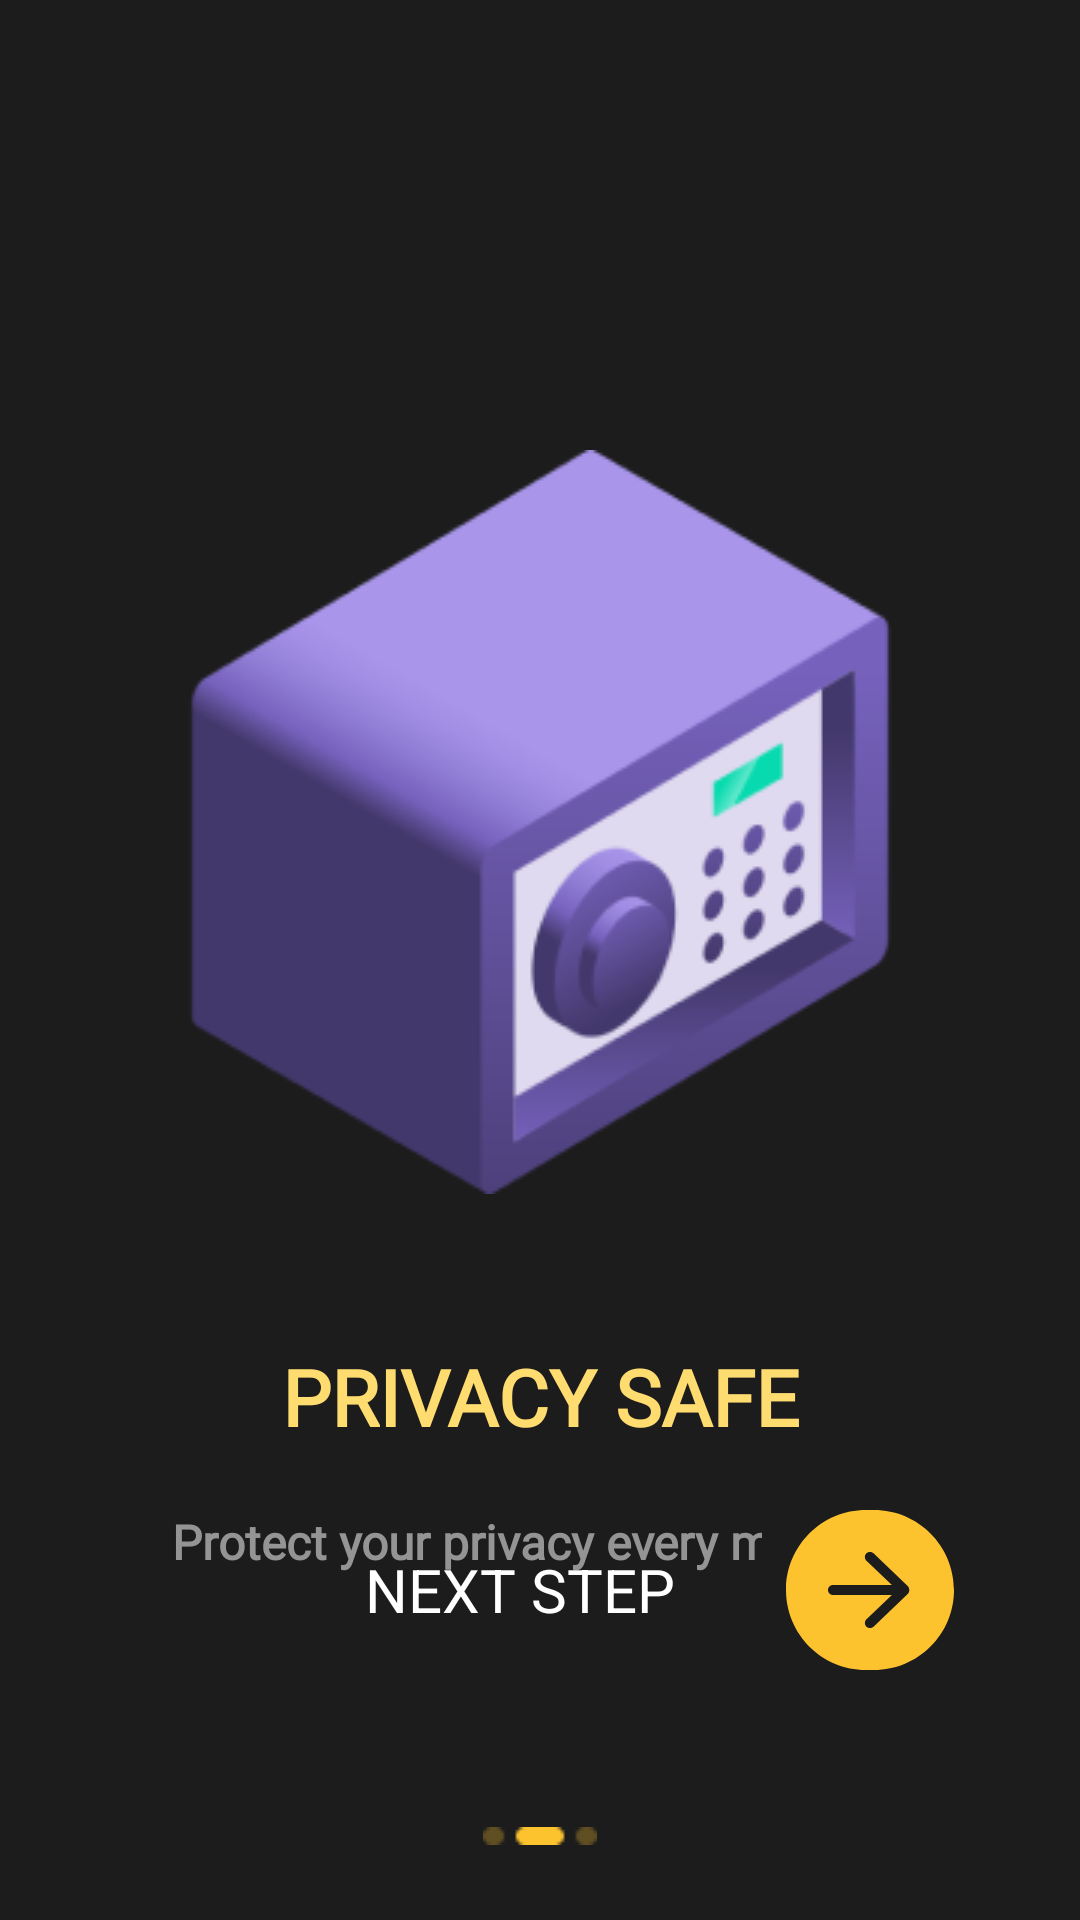

Locate icon controls on the screen. Image size 1080*1920, boxes as detection(x1, y1, x2, y2).
clicknext: detection(786, 1510, 954, 1670)
